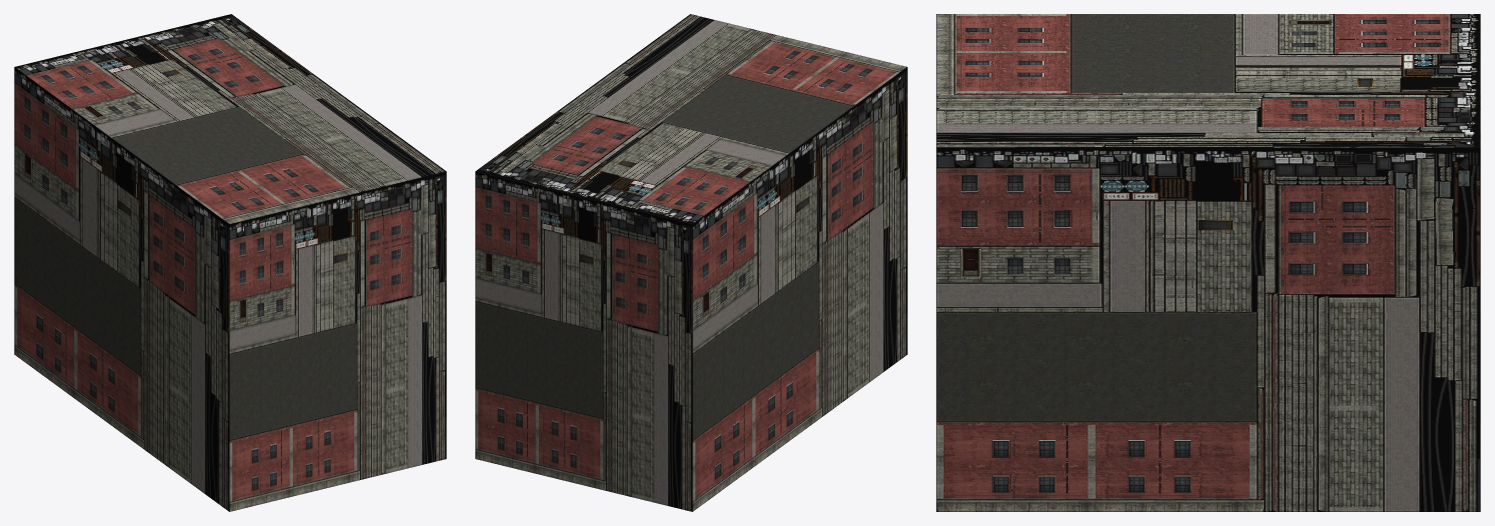
Rendered from Building_001.DAE.
3 views of the same model, side by side, from view 1: azimuth 30°, elevation 25°; view 2: azimuth 150°, elevation 25°; view 3: azimuth 270°, elevation 25° (orthographic). The views are drawn at different scales.
Visible parts, largest first — view 1: bounds; view 2: bounds; view 3: bounds.
Part boxes in pixels (box(x1,y1,x2,y2)): bounds: box(14, 14, 446, 511); bounds: box(475, 14, 907, 511); bounds: box(936, 14, 1480, 511).
Bounding box in the file's own units: 1292 × 2216 × 1635.
